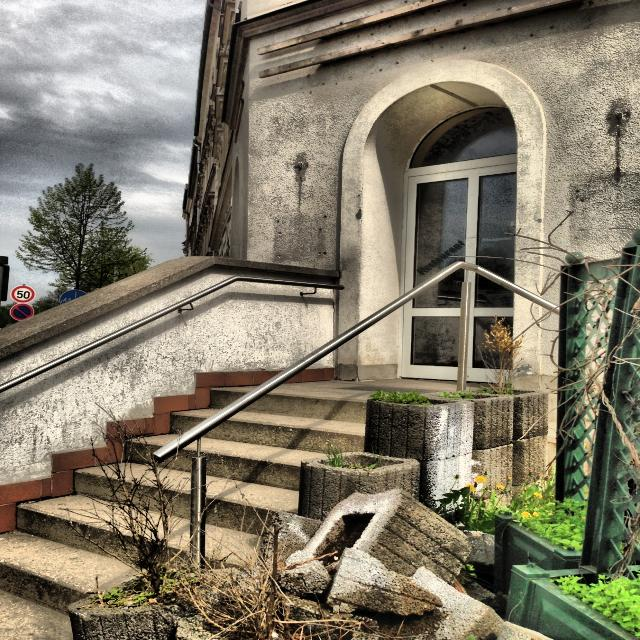escada: (2, 388, 375, 640)
